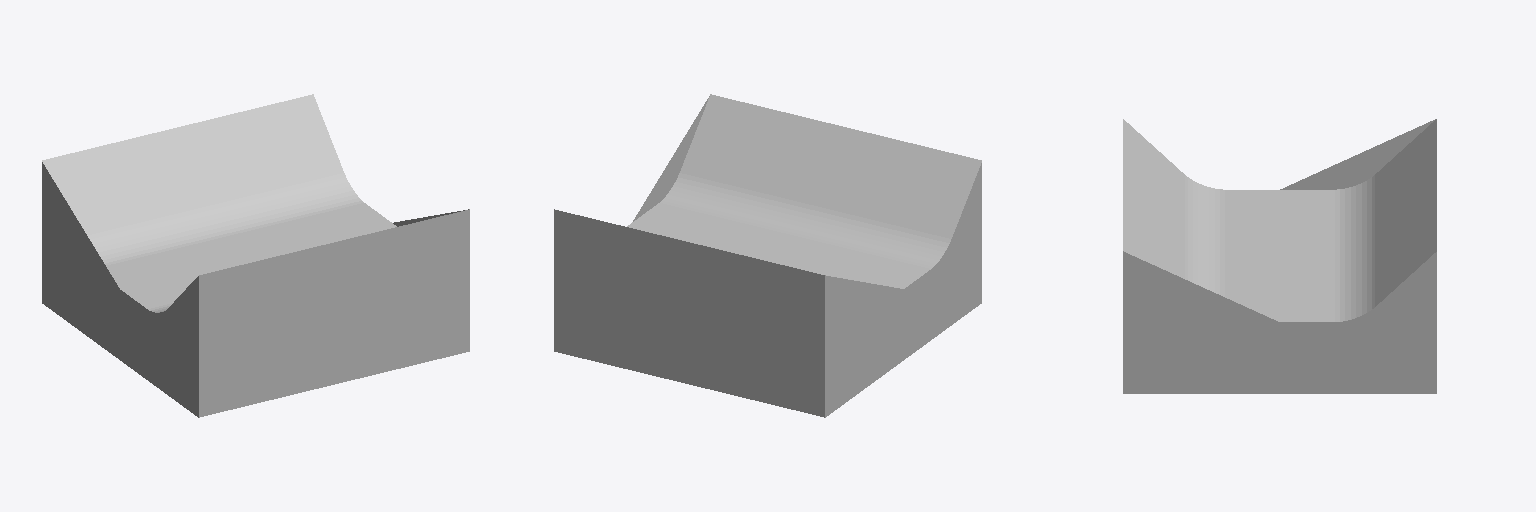
File: Block.obj
3 renders of one model, left to right at view 1: azimuth 30°, elevation 25°; view 2: azimuth 150°, elevation 25°; view 3: azimuth 270°, elevation 25°, orthographic.
Parts seen in each view (by area): view 1: Cube_Cube.001; view 2: Cube_Cube.001; view 3: Cube_Cube.001.
Part boxes in pixels (x1,y1,x2,y2): Cube_Cube.001: (42, 94, 469, 417); Cube_Cube.001: (554, 94, 981, 417); Cube_Cube.001: (1123, 119, 1436, 393).
Size of the model in its own units: 4 by 2 by 4.